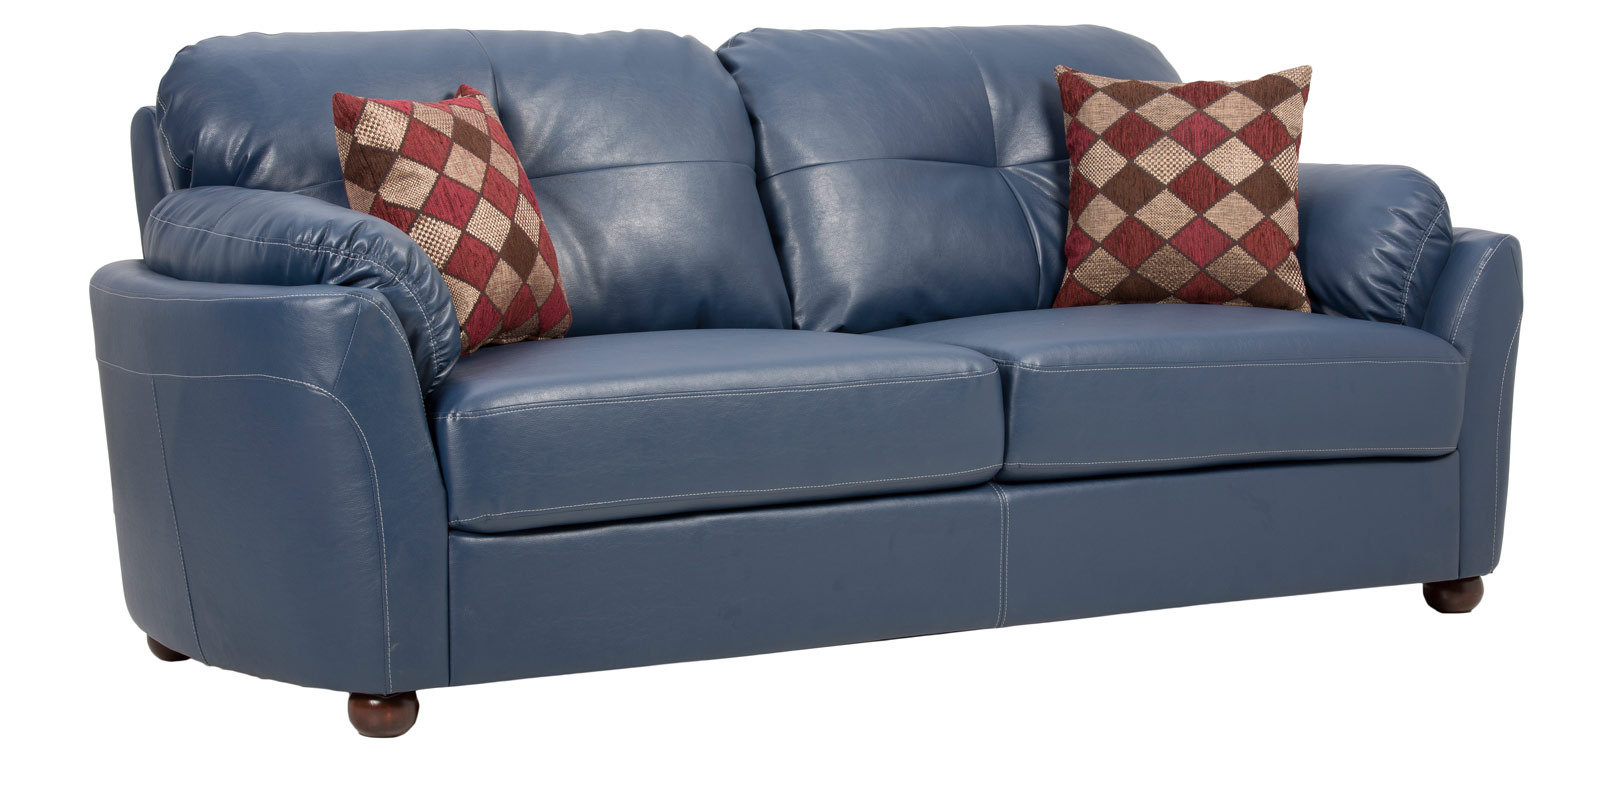Glassgow Heaven Three Seater Sofa with Throw Cushions in Blue Colour by Urban Li: (71, 11, 1544, 790)
